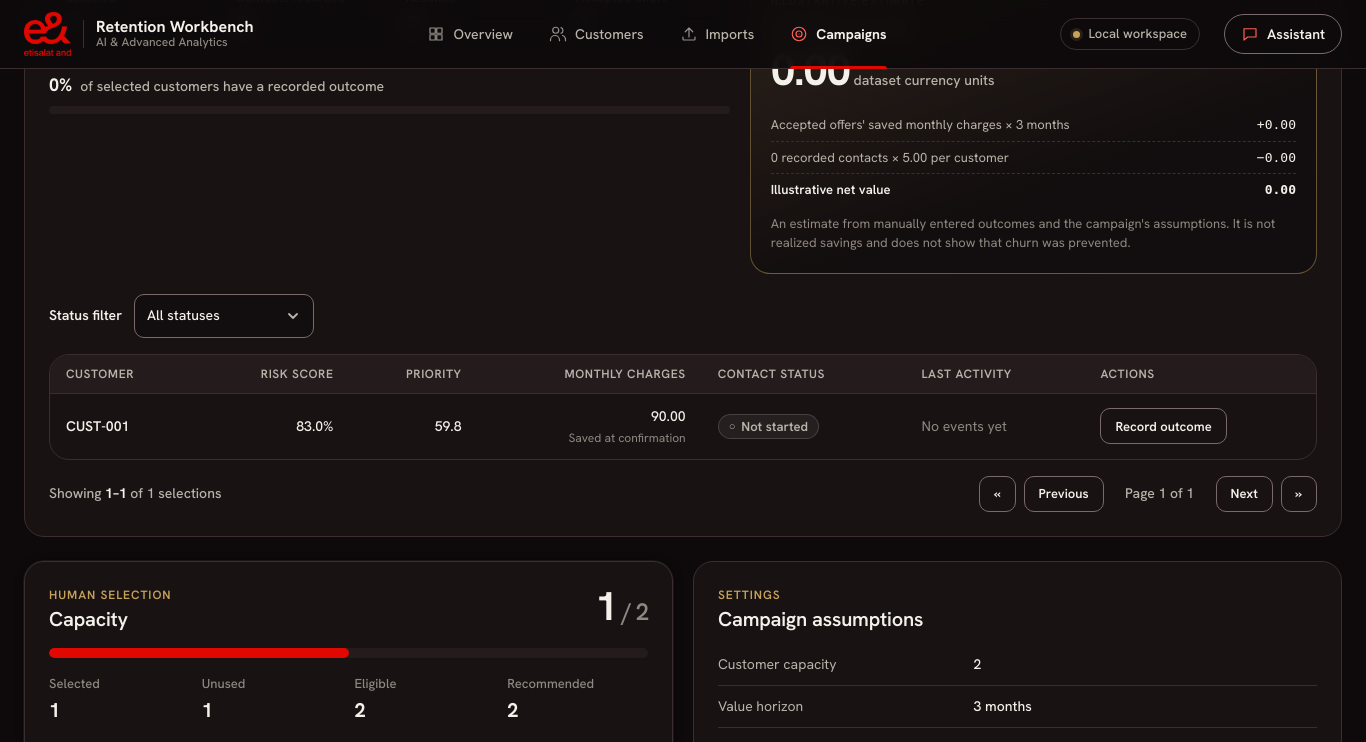
records a simulated offer acceptance and updates the illustrative value
The image size is (1366, 742).
(page scrolled)
Click the button "Record outcome". click: (1164, 426)
box: [1100,408,1227,444]
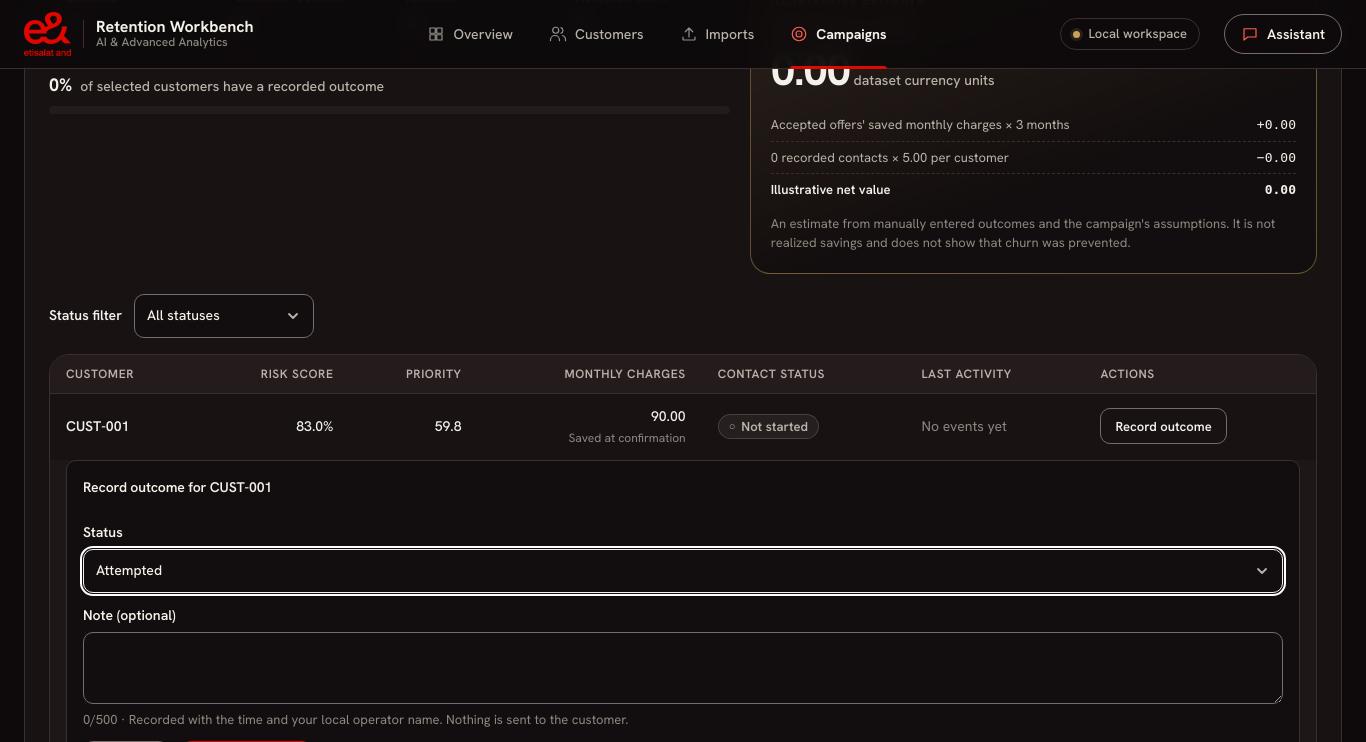
Select "Offer accepted" in the dropdown labelled "Status". click: (683, 571)
box: [83,549,1283,593]
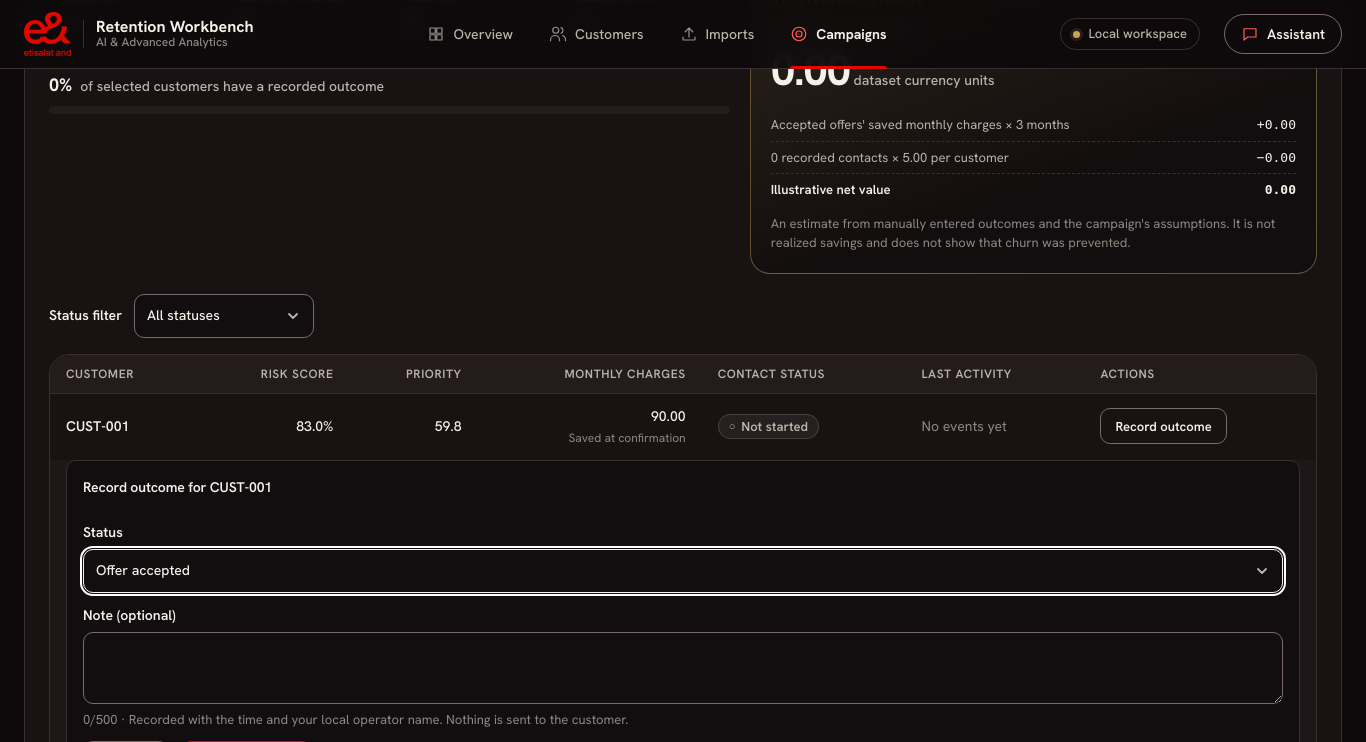
Type "Accepted during local demo" into the text box labelled "Note (optional)". click: (683, 668)
box: [83,632,1283,704]
(page scrolled)
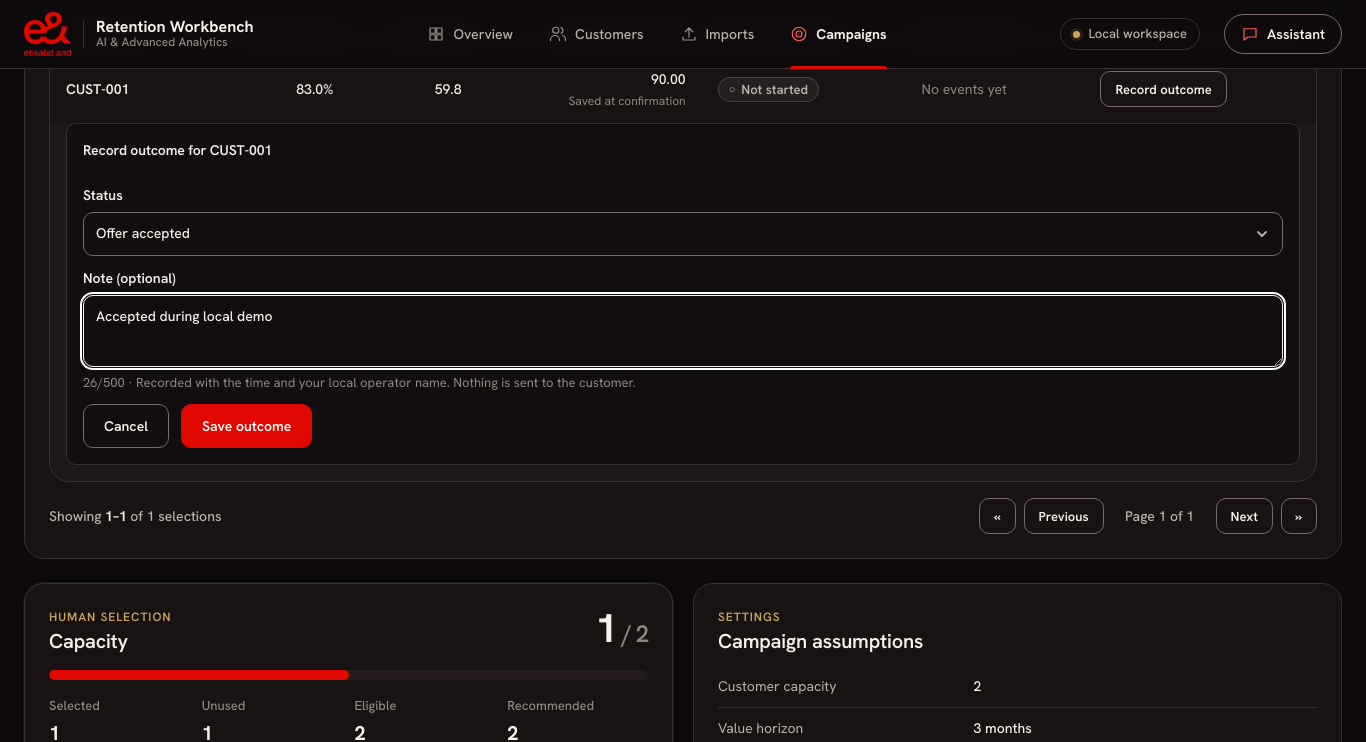
Click the button "Save outcome". click: (247, 426)
box: [181,404,312,448]
(page scrolled)
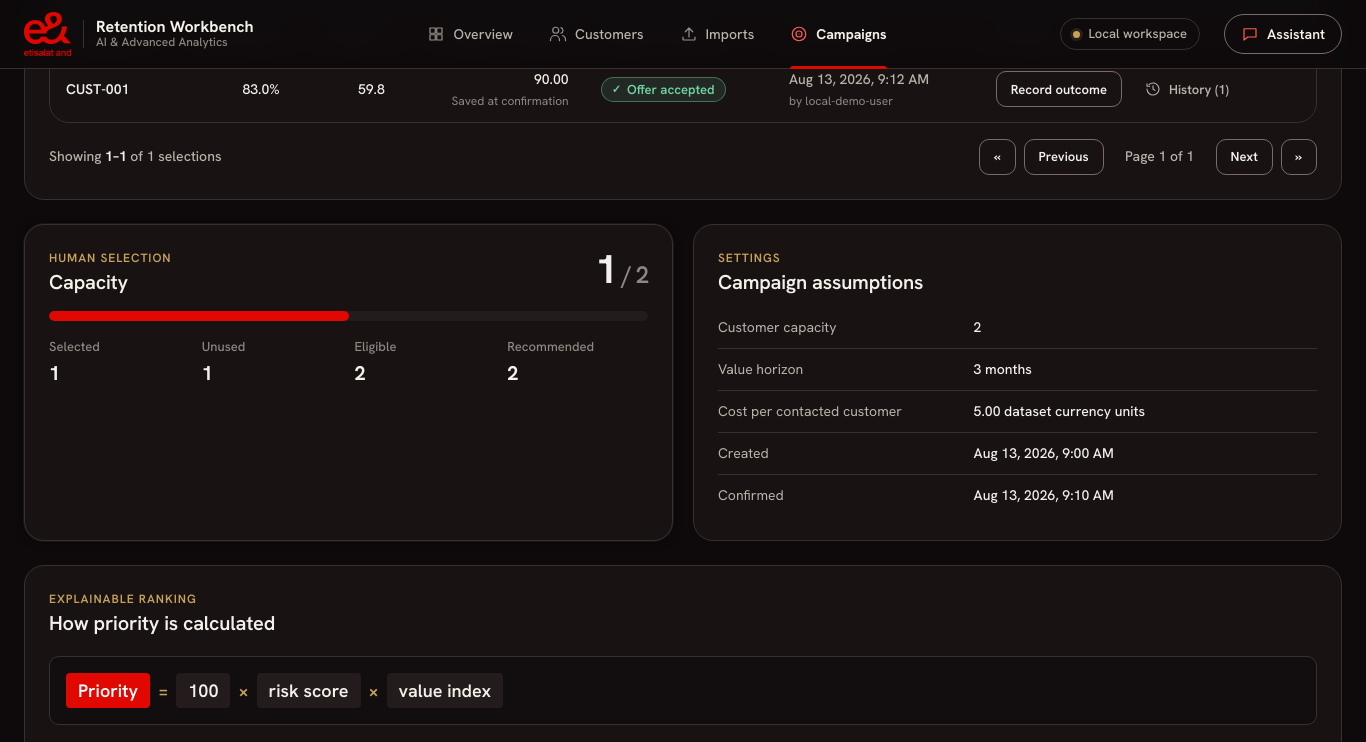
Result: the cell "Offer accepted" is shown at [585,57,773,122]
